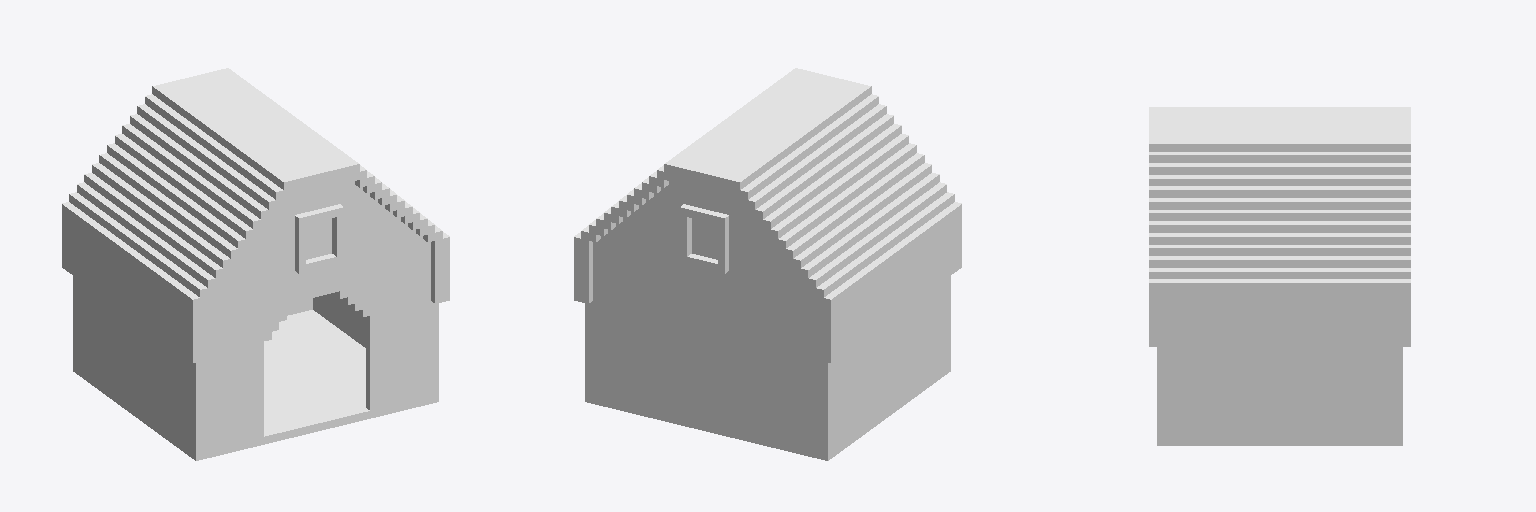
File: hut.obj
3 renders of one model, left to right at view 1: azimuth 30°, elevation 25°; view 2: azimuth 150°, elevation 25°; view 3: azimuth 270°, elevation 25°, orthographic.
Visible parts, largest first — view 1: object 1; view 2: object 1; view 3: object 1.
Boxes of the visible parts, <box> form: object 1: <box>62,68,449,460</box>; object 1: <box>574,68,961,460</box>; object 1: <box>1149,107,1410,445</box>.
Bounding box in the file's own units: 3.4 × 3.3 × 3.